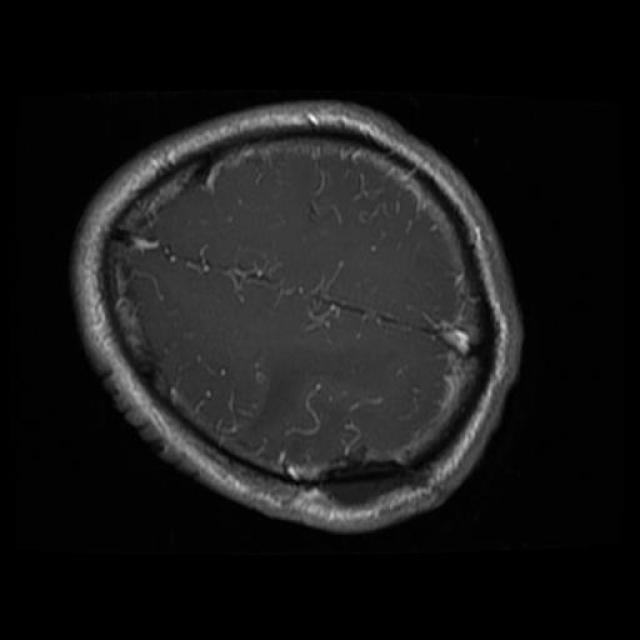Glioma: (315, 461, 423, 505)
